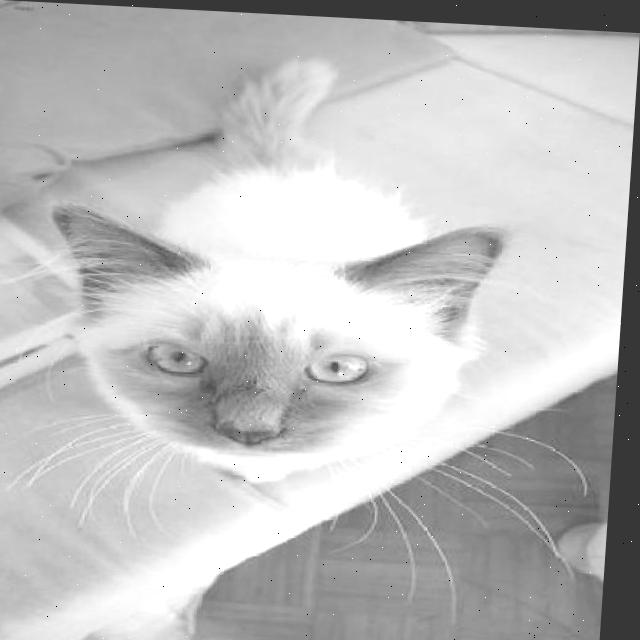Cat: (12, 49, 496, 493)
